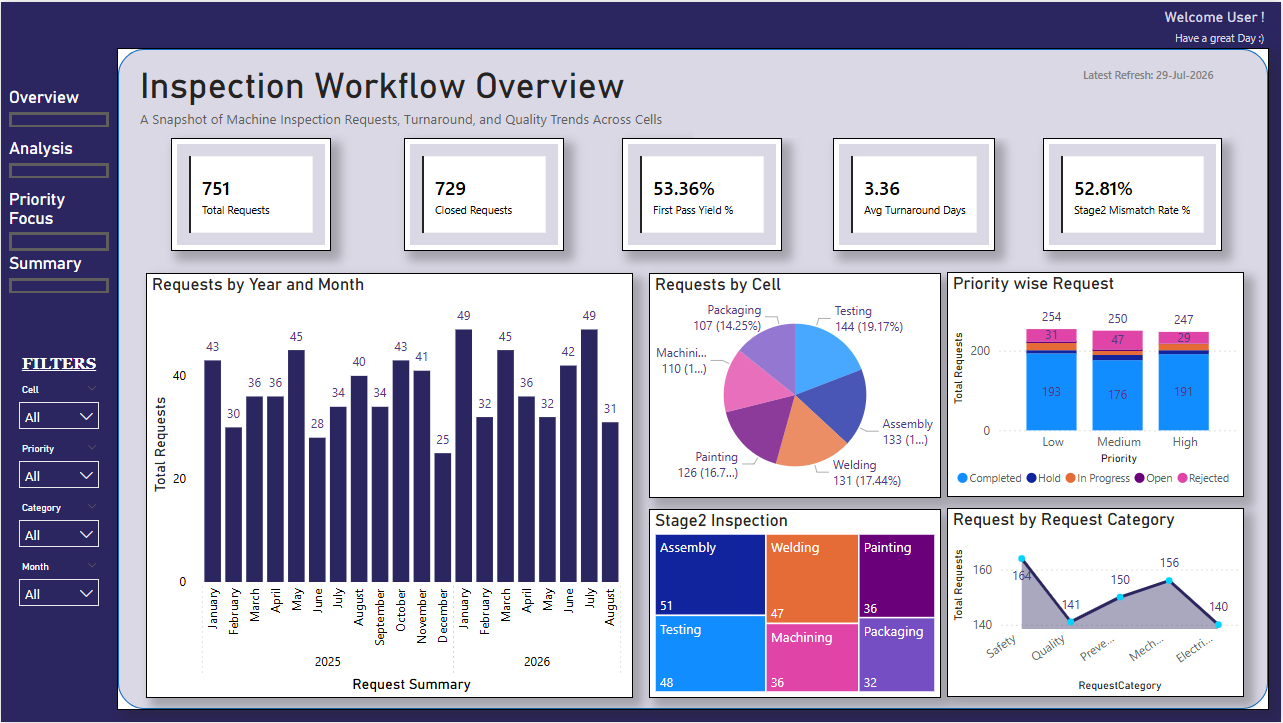

Layout of this report page (visuals, bound fields, positions):
{"tool":"powerbi","page":{"name":"Overview","canvas":[1280,720],"ordinal":0},"visuals":[{"type":"shape","box":[116,46,1152,662],"z":0},{"type":"actionButton","title":"Overview","box":[8,85,100,40],"z":1000},{"type":"actionButton","title":"Analysis","box":[8,136,100,40],"z":2000},{"type":"actionButton","title":"Priority Focus","box":[7.8,186.7,100,62.2],"z":3000},{"type":"actionButton","title":"Summary","box":[7.8,251.1,100,40],"z":4000},{"type":"cardVisual","fields":{"Data":["inspection_master.Total Requests"]},"box":[170,136,160,113],"z":5000},{"type":"cardVisual","fields":{"Data":["inspection_master.Avg Turnaround Days"]},"box":[832,136,162,113],"z":6000},{"type":"cardVisual","fields":{"Data":["inspection_master.Stage2 Mismatch Rate %"]},"box":[1042,136,179,113],"z":7000},{"type":"cardVisual","fields":{"Data":["inspection_master.First Pass Yield %"]},"box":[621,136,160,113],"z":8000},{"type":"cardVisual","fields":{"Data":["inspection_master.Closed Requests"]},"box":[403,136,160,113],"z":9000},{"type":"textbox","box":[8,347,100,281],"z":10000},{"type":"slicer","fields":{"Values":["inspection_master.Cell"]},"box":[8,377,100,59],"z":11000},{"type":"slicer","fields":{"Values":["inspection_master.Priority"]},"box":[8,436,100,59],"z":12000},{"type":"slicer","fields":{"Values":["inspection_master.RequestCategory"]},"box":[8,495,100,59],"z":13000},{"type":"slicer","fields":{"Values":["inspection_master.Month"]},"box":[8,554,100,59],"z":14000},{"type":"textbox","title":"Inspection Workflow Overview","box":[134,62,537,65],"z":15000},{"type":"textbox","title":"Inspection Command Center","box":[692,71,537,65],"z":16000},{"type":"cardVisual","fields":{"Data":["inspection_master.Last Refresh"]},"box":[1052,47,191,48],"z":17000},{"type":"textbox","title":"Welcome User ! ","box":[968,7,300,39],"z":18000},{"type":"clusteredColumnChart","title":"Requests by Year and Month","fields":{"Category":["inspection_master.Date.Variation.Date Hierarchy.Year","inspection_master.Date.Variation.Date Hierarchy.Month"],"Y":["inspection_master.Total Requests"]},"box":[145.4,271.3,486.8,424.7],"z":19000},{"type":"pieChart","title":"Requests by Cell","fields":{"Y":["inspection_master.Total Requests"],"Category":["inspection_master.Cell"]},"box":[647.8,271.4,291.8,224.7],"z":20000},{"type":"columnChart","title":"Priority wise Request","fields":{"Category":["inspection_master.Priority"],"Y":["inspection_master.Total Requests"],"Series":["inspection_master.RequestStatus"]},"box":[946.4,270.4,296.7,224.7],"z":21000},{"type":"treemap","title":"Stage2 Inspection ","fields":{"Group":["inspection_master.Cell"],"Values":["CountNonNull(inspection_master.InspectionID)"]},"box":[647.8,506.7,291.8,189.7],"z":22000},{"type":"lineChart","title":"Request by Request Category","fields":{"Y":["inspection_master.Total Requests"],"Category":["inspection_master.RequestCategory"]},"box":[946.4,505.8,296.7,189.7],"z":23000}]}

Visuals, with their boxes in screenshot pixels (x1, y1, x2, y2):
shape: (121,49,1260,703)
"Overview" actionButton: (15,87,113,127)
"Analysis" actionButton: (15,138,113,177)
"Priority Focus" actionButton: (14,188,113,249)
"Summary" actionButton: (14,252,113,291)
cardVisual - inspection_master.Total Requests: (175,138,333,249)
cardVisual - inspection_master.Avg Turnaround Days: (829,138,989,249)
cardVisual - inspection_master.Stage2 Mismatch Rate %: (1037,138,1214,249)
cardVisual - inspection_master.First Pass Yield %: (621,138,779,249)
cardVisual - inspection_master.Closed Requests: (405,138,563,249)
textbox: (15,346,113,624)
slicer - inspection_master.Cell: (15,376,113,434)
slicer - inspection_master.Priority: (15,434,113,493)
slicer - inspection_master.RequestCategory: (15,493,113,551)
slicer - inspection_master.Month: (15,551,113,609)
"Inspection Workflow Overview" textbox: (139,65,670,129)
"Inspection Command Center" textbox: (691,74,1222,138)
cardVisual - inspection_master.Last Refresh: (1047,50,1235,97)
"Welcome User ! " textbox: (964,10,1260,49)
"Requests by Year and Month" clusteredColumnChart: (150,272,632,691)
"Requests by Cell" pieChart: (647,272,935,494)
"Priority wise Request" columnChart: (942,271,1235,493)
"Stage2 Inspection " treemap: (647,504,935,692)
"Request by Request Category" lineChart: (942,503,1235,691)
